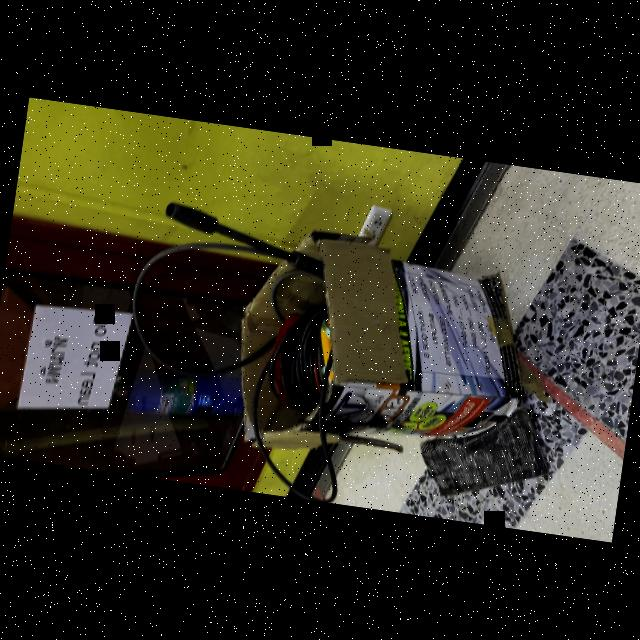cardboard_box: (216, 219, 509, 479)
